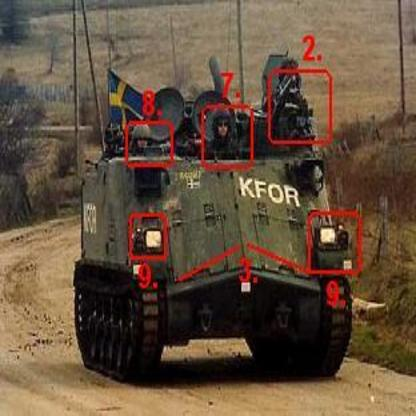Tank: (70, 54, 361, 386)
